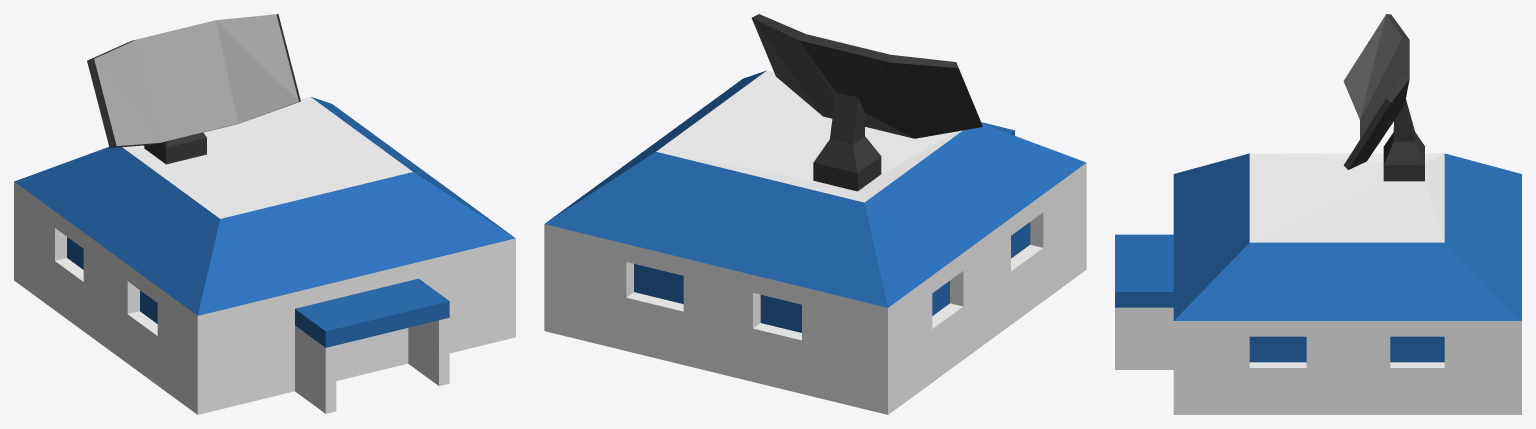
File: TownHall.fbx
3 renders of one model, left to right at view 1: azimuth 30°, elevation 25°; view 2: azimuth 150°, elevation 25°; view 3: azimuth 270°, elevation 25°, orthographic. The views are drawn at different scales.
Visible parts, largest first — view 1: TownCenter; view 2: TownCenter; view 3: TownCenter.
Part boxes in pixels (box(x1,y1,x2,y2)): TownCenter: box(14, 14, 515, 414); TownCenter: box(544, 14, 1086, 414); TownCenter: box(1115, 14, 1521, 414).
Bounding box in the file's own units: 2.12 × 1.74 × 2.48.
